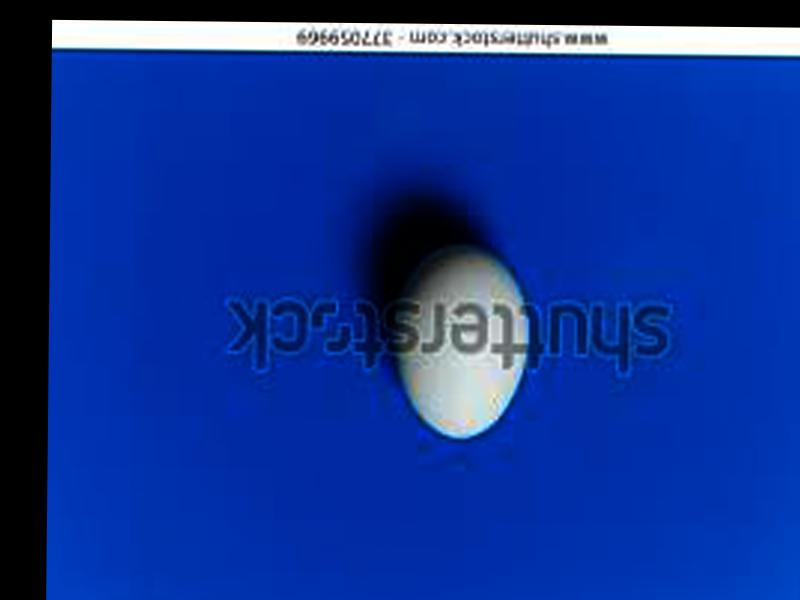Eggs: (393, 243, 526, 445)
